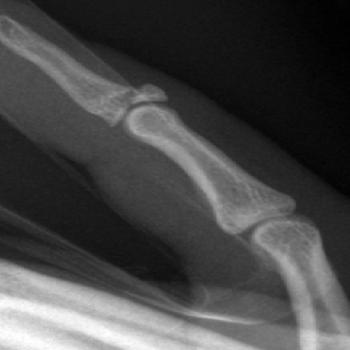Fracture: (122, 76, 173, 113)
